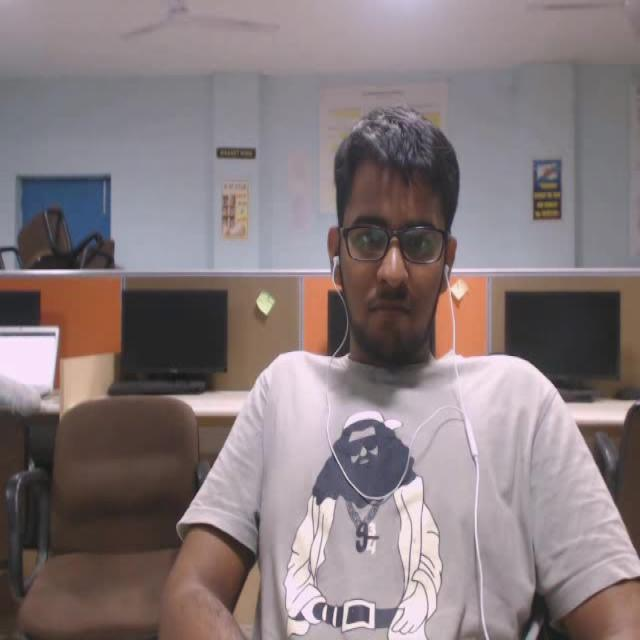Engaged: (291, 61, 471, 423)
